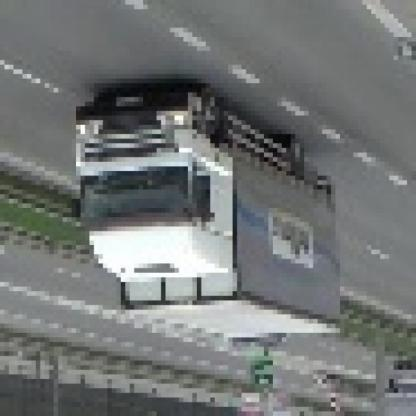truck: (63, 94, 341, 348)
